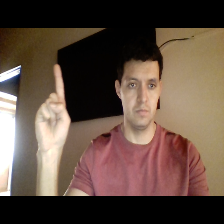2T: (31, 60, 76, 158)
